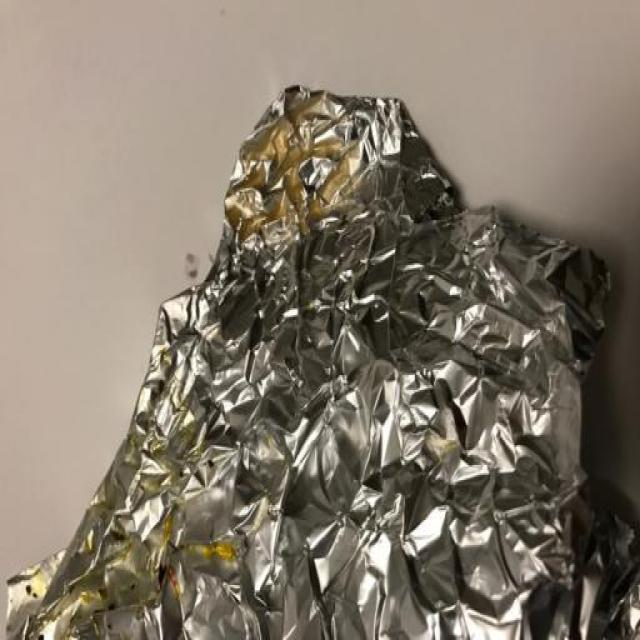metel: (33, 64, 640, 640)
